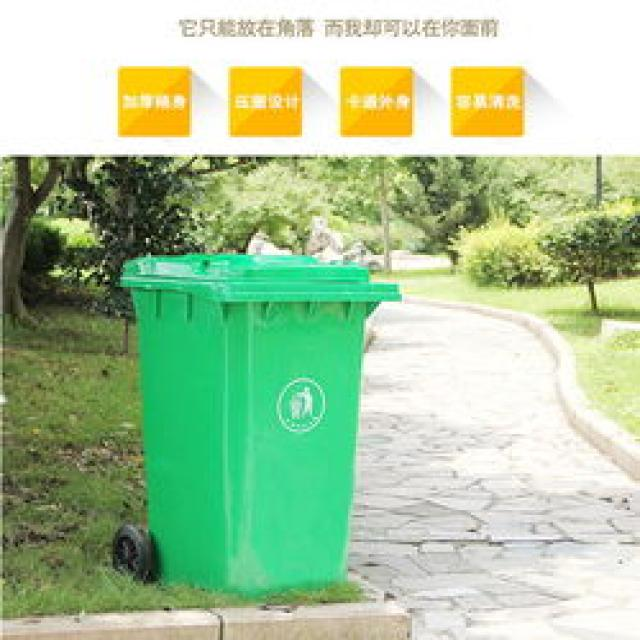garbage_bin: (116, 250, 400, 596)
